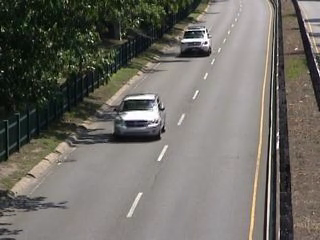car: (109, 91, 170, 142), (178, 23, 213, 59)
